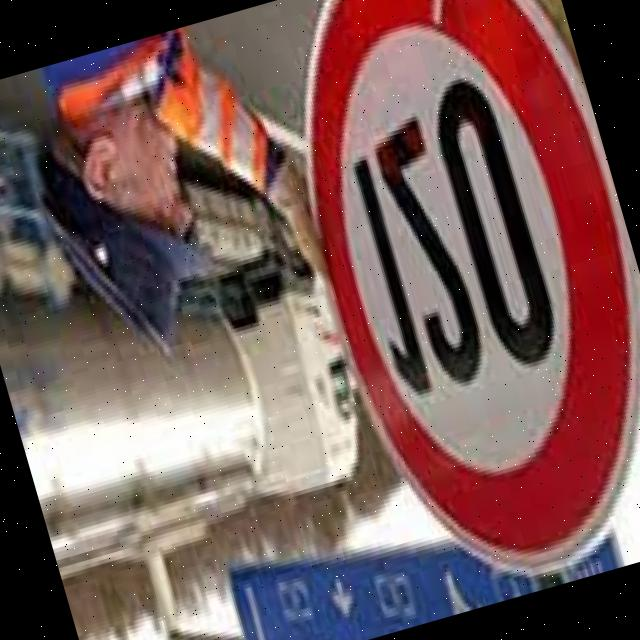speed_limit_120: (238, 0, 640, 607)
